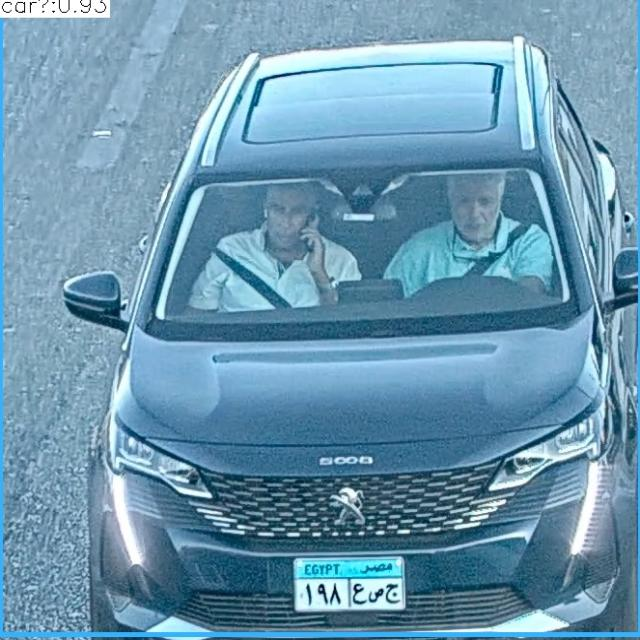windshield: (146, 177, 572, 311)
